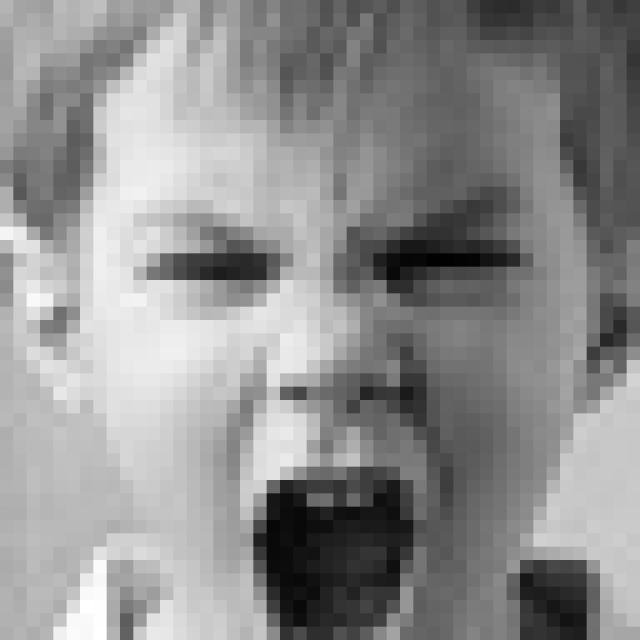angry: (121, 185, 544, 640)
